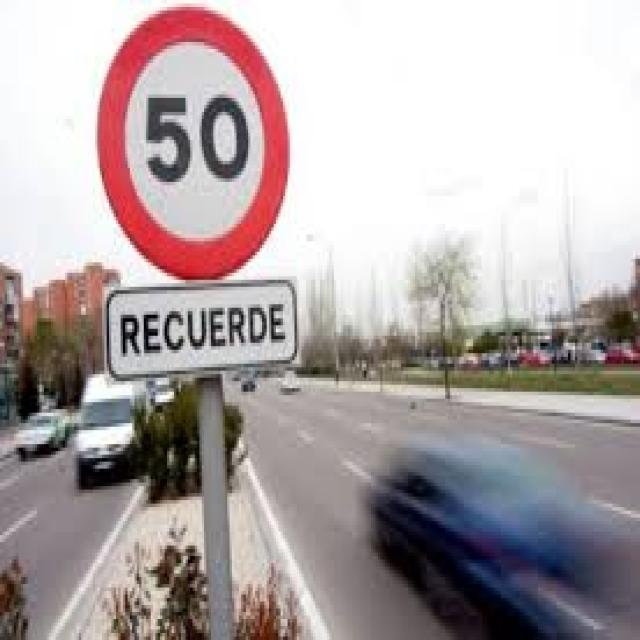Speed limit 50: (94, 1, 293, 281)
